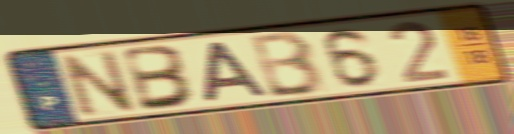2: (387, 19, 453, 85)
6: (321, 26, 384, 89)
A: (200, 39, 272, 105)
B: (248, 28, 328, 99), (120, 43, 200, 114)
N: (54, 47, 141, 120)
